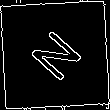N_SE: (22, 23, 88, 87)
